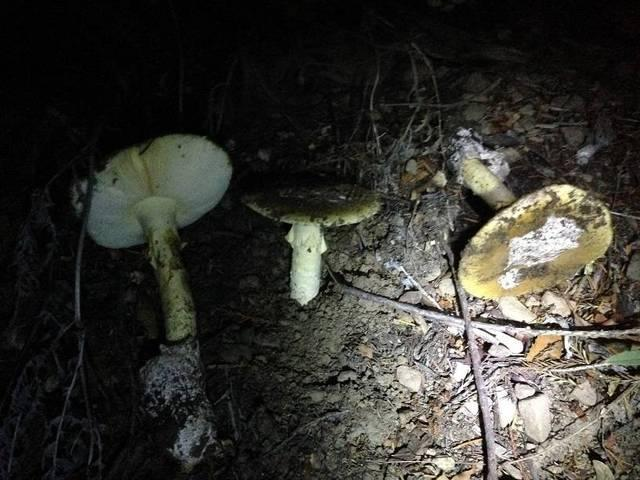edible_mushroom: (68, 132, 233, 470), (456, 181, 613, 303), (240, 175, 382, 307)
